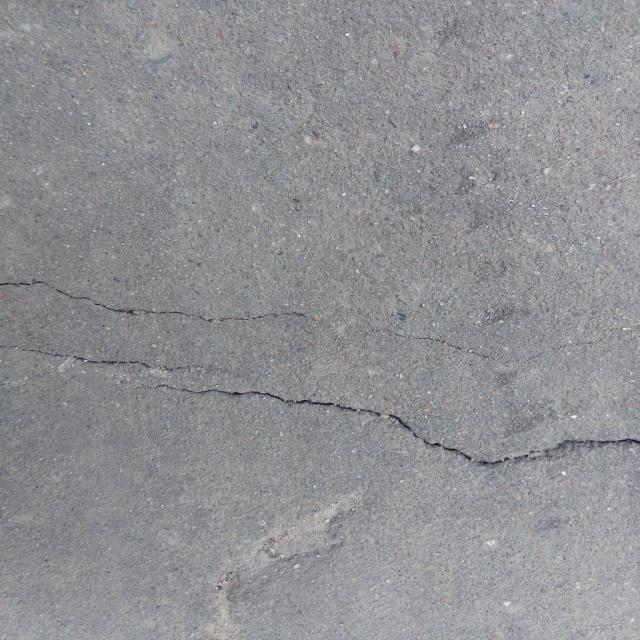cracks: (0, 318, 639, 474), (10, 269, 640, 374)
